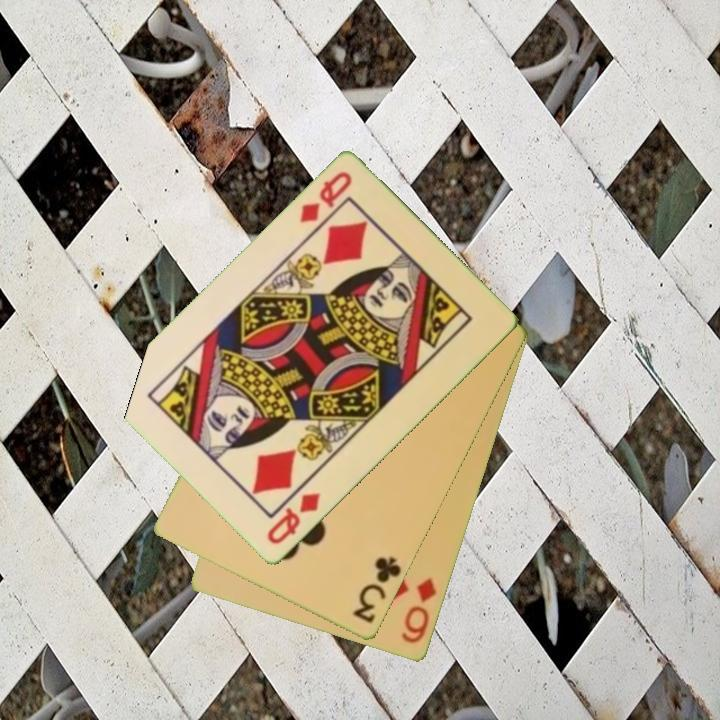3c: (349, 553, 405, 626)
6d: (398, 575, 440, 647)
Qd: (263, 489, 324, 548), (296, 168, 356, 227)
